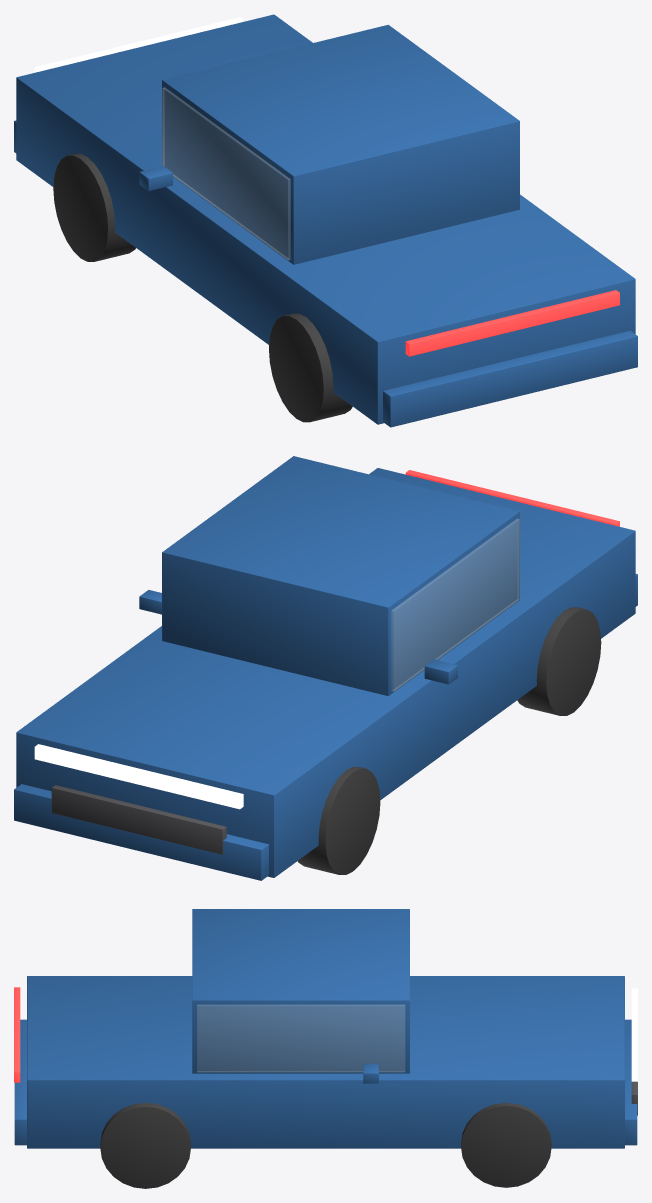
The model's file is vehicle.glb.
3 renders of one model, top to bottom at view 1: azimuth 30°, elevation 25°; view 2: azimuth 150°, elevation 25°; view 3: azimuth 270°, elevation 25°, orthographic. The views are drawn at different scales.
Parts seen in each view (by area): view 1: BODY_Main, BODY_Roof, GLASS_Greenhouse, BODY_Bumpers_Rear, WHEEL_RR_Tire, WHEEL_FR_Tire, LIGHT_Taillights, LIGHT_Headlights, BODY_Mirror_R; view 2: BODY_Main, BODY_Roof, GLASS_Greenhouse, BODY_Bumpers_Front, WHEEL_RR_Tire, WHEEL_FR_Tire, BODY_Grille, LIGHT_Headlights, LIGHT_Taillights, BODY_Mirror_R; view 3: BODY_Main, BODY_Roof, GLASS_Greenhouse, WHEEL_RL_Tire, WHEEL_FL_Tire, BODY_Bumpers_Rear, BODY_Bumpers_Front, LIGHT_Taillights, LIGHT_Headlights.
Part boxes in pixels (bbox=[...]): BODY_Main: bbox=[16, 14, 635, 424]; BODY_Roof: bbox=[162, 24, 519, 264]; GLASS_Greenhouse: bbox=[162, 87, 290, 260]; BODY_Bumpers_Rear: bbox=[383, 330, 637, 427]; WHEEL_RR_Tire: bbox=[269, 313, 352, 422]; WHEEL_FR_Tire: bbox=[53, 153, 135, 261]; LIGHT_Taillights: bbox=[405, 290, 619, 356]; LIGHT_Headlights: bbox=[34, 17, 243, 72]; BODY_Mirror_R: bbox=[139, 166, 172, 191]; BODY_Main: bbox=[16, 468, 635, 877]; BODY_Roof: bbox=[162, 456, 519, 696]; GLASS_Greenhouse: bbox=[391, 519, 519, 691]; BODY_Bumpers_Front: bbox=[14, 784, 268, 880]; WHEEL_RR_Tire: bbox=[517, 607, 601, 715]; WHEEL_FR_Tire: bbox=[297, 767, 380, 874]; BODY_Grille: bbox=[51, 785, 226, 854]; LIGHT_Headlights: bbox=[34, 744, 243, 809]; LIGHT_Taillights: bbox=[405, 470, 619, 526]; BODY_Mirror_R: bbox=[424, 659, 457, 684]; BODY_Main: bbox=[27, 976, 624, 1148]; BODY_Roof: bbox=[192, 909, 409, 1073]; GLASS_Greenhouse: bbox=[197, 1005, 405, 1072]; WHEEL_RL_Tire: bbox=[100, 1102, 190, 1188]; WHEEL_FL_Tire: bbox=[461, 1102, 551, 1187]; BODY_Bumpers_Rear: bbox=[14, 1019, 26, 1145]; BODY_Bumpers_Front: bbox=[625, 1019, 637, 1145]; LIGHT_Taillights: bbox=[14, 987, 20, 1082]; LIGHT_Headlights: bbox=[631, 988, 637, 1081].
Size of the model in its own units: 2.28 by 1.52 by 4.81.
